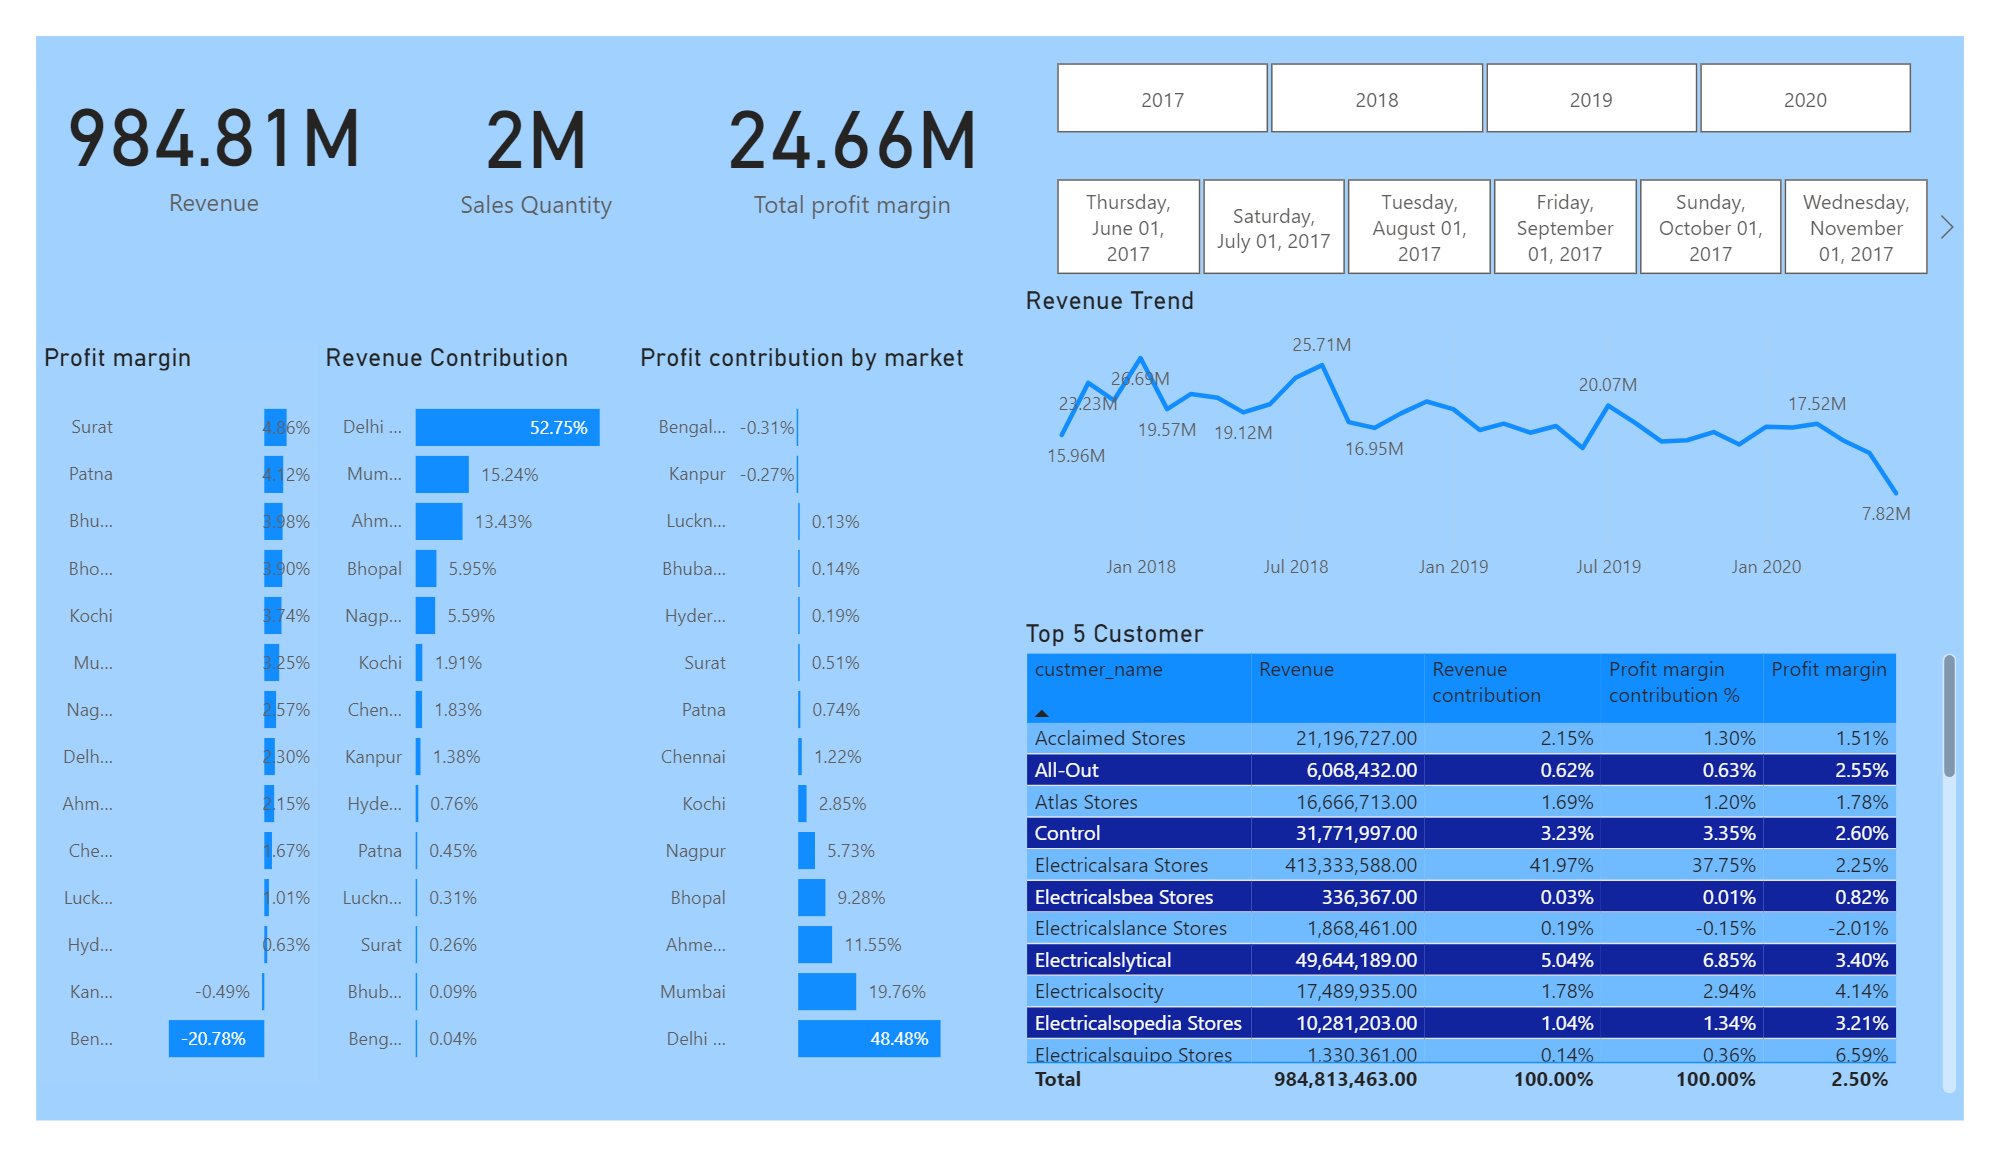

What the dashboard file says about the page in this screenshot:
{"tool":"tableau","page":{"name":"Final Dashboard","canvas":[1620,860],"ordinal":3},"visuals":[{"type":"image","param":"Image/Figma basics (1).png","box":[8,8,1604,844]},{"type":"filter","title":"Task 1 (2)","param":"[federated.04jtchk1gyew6m1de4sr8149sgar].[none:PRODUCTLINE:nk]","box":[1327,37,241,85]},{"type":"text","box":[45,38,678,66]},{"type":"worksheet","title":"Sheet 15","mark":"Automatic","box":[841,48,462,61]},{"type":"filter","title":"Task 1 (2)","param":"[federated.04jtchk1gyew6m1de4sr8149sgar].[none:COUNTRY:nk]","box":[1330,104,235,50]},{"type":"text","box":[30,123,145,30]},{"type":"worksheet","title":"Sales kpi","mark":"Automatic","box":[29,157,208,88]},{"type":"worksheet","title":"Total customer","mark":"Automatic","box":[510,157,204,91]},{"type":"worksheet","title":"Task 8","mark":"Automatic","rows":["SALES"],"cols":["ORDERDATE"],"box":[732,158,573,86]},{"type":"worksheet","title":"Total order","mark":"Automatic","box":[271,160,206,84]},{"type":"filter","title":"Sheet 15","param":"[federated.04jtchk1gyew6m1de4sr8149sgar].[none:STATUS:nk]","box":[1330,170,236,69]},{"type":"legend","title":"Task 1 (2)","param":"[federated.04jtchk1gyew6m1de4sr8149sgar].[sum:SALES:qk]","box":[110,249,433,41]},{"type":"legend","title":"Task 2","param":"[federated.04jtchk1gyew6m1de4sr8149sgar].[none:PRODUCTLINE:nk]","box":[636,251,939,29]},{"type":"worksheet","title":"Task 11","mark":"Automatic","rows":["CUSTOMERNAME"],"box":[1319,280,276,540]},{"type":"worksheet","title":"Task 1 (2)","mark":"Automatic","box":[36,283,680,259]},{"type":"worksheet","title":"Task 2","mark":"Area","rows":["SALES"],"cols":["ORDERDATE"],"box":[729,289,571,249]},{"type":"worksheet","title":"Task 5","mark":"Automatic","rows":["CUSTOMERNAME"],"cols":["SALES"],"box":[36,561,677,257]},{"type":"worksheet","title":"Task 4","mark":"Circle","rows":["PRODUCTLINE"],"cols":["QUANTITYORDERED"],"box":[733,569,569,243]}]}

Visuals, with their boxes on the page's 1620x860 design canvas (x1, y1, x2, y2). These are canvas units, not pixel positions in the 2000x1156 screenshot, which may show the page scaled, cropped or inside an application window:
image: bbox=[8, 8, 1612, 852]
"Task 1 (2)" filter: bbox=[1327, 37, 1568, 122]
text: bbox=[45, 38, 723, 104]
"Sheet 15" worksheet: bbox=[841, 48, 1303, 109]
"Task 1 (2)" filter: bbox=[1330, 104, 1565, 154]
text: bbox=[30, 123, 175, 153]
"Sales kpi" worksheet: bbox=[29, 157, 237, 245]
"Total customer" worksheet: bbox=[510, 157, 714, 248]
"Task 8" worksheet: bbox=[732, 158, 1305, 244]
"Total order" worksheet: bbox=[271, 160, 477, 244]
"Sheet 15" filter: bbox=[1330, 170, 1566, 239]
"Task 1 (2)" legend: bbox=[110, 249, 543, 290]
"Task 2" legend: bbox=[636, 251, 1575, 280]
"Task 11" worksheet: bbox=[1319, 280, 1595, 820]
"Task 1 (2)" worksheet: bbox=[36, 283, 716, 542]
"Task 2" worksheet (Area marks): bbox=[729, 289, 1300, 538]
"Task 5" worksheet: bbox=[36, 561, 713, 818]
"Task 4" worksheet (Circle marks): bbox=[733, 569, 1302, 812]
